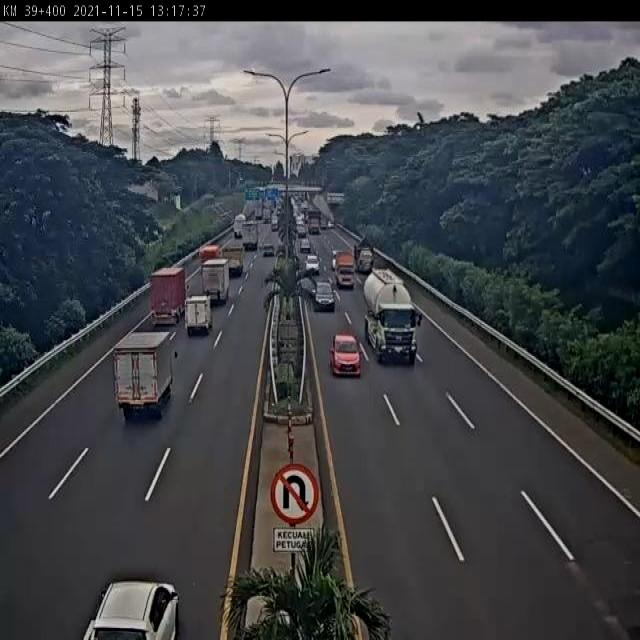Car: (84, 579, 183, 640), (329, 331, 362, 382), (312, 281, 336, 314), (305, 253, 320, 276), (300, 238, 313, 255), (263, 241, 274, 259), (296, 226, 306, 237)
Truck: (364, 264, 424, 369), (112, 330, 179, 423), (150, 266, 190, 328), (202, 258, 231, 309), (185, 294, 212, 336), (336, 251, 356, 296), (224, 245, 244, 278), (357, 237, 374, 274), (242, 220, 258, 253), (308, 210, 322, 233), (234, 214, 247, 238)
